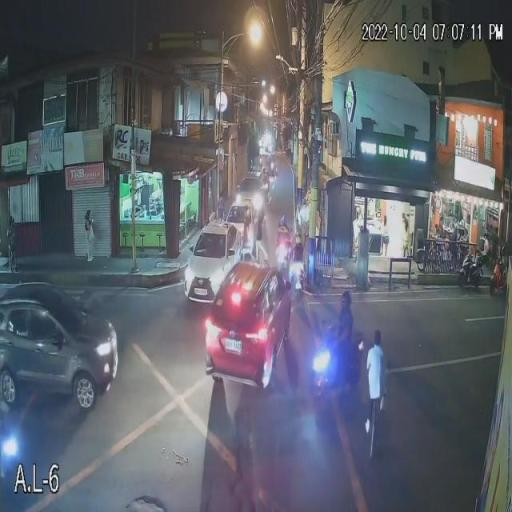helmet: (340, 290, 351, 300), (278, 216, 288, 226), (293, 236, 302, 246)
motorcycle: (310, 326, 362, 410), (458, 246, 486, 292), (287, 255, 309, 307), (490, 251, 508, 296), (274, 234, 292, 272)
rider: (329, 290, 356, 361), (289, 234, 306, 276), (491, 235, 507, 277), (276, 216, 290, 251)
